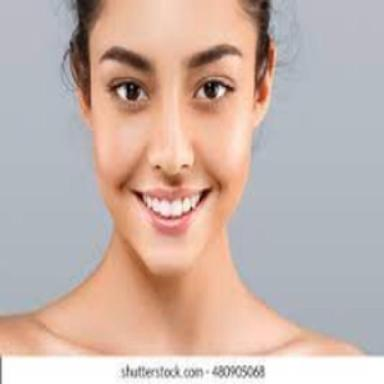normal skin: (0, 0, 356, 355)
